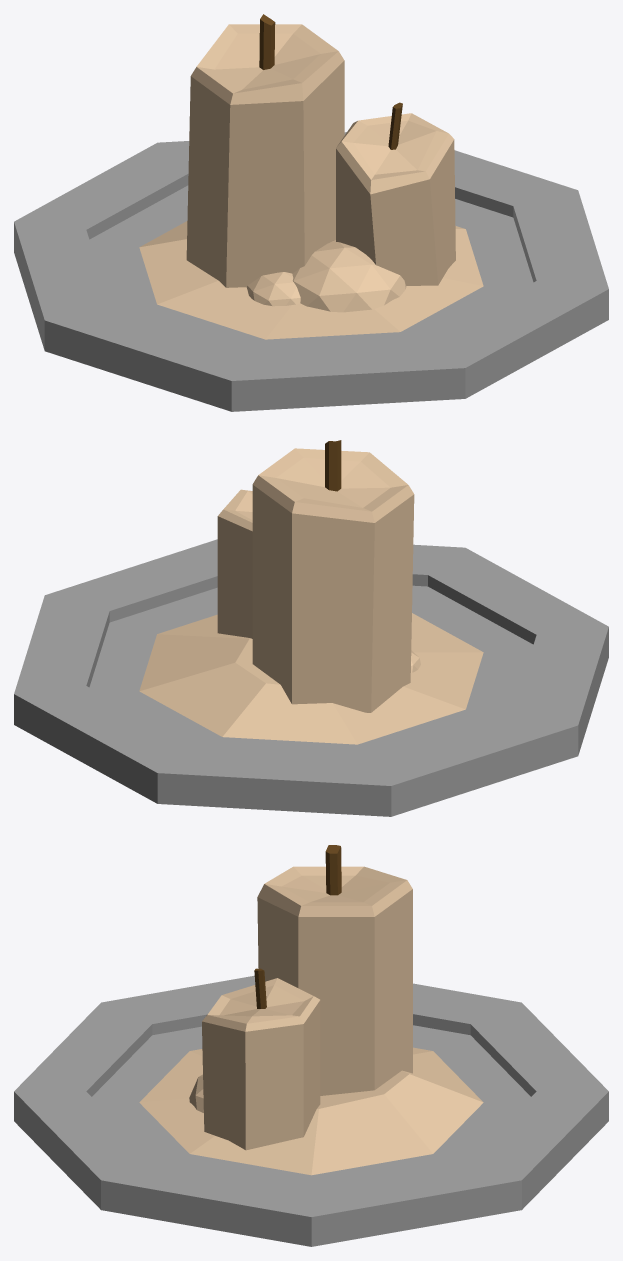
The model's file is Candle.fbx.
3 renders of one model, top to bottom at view 1: azimuth 30°, elevation 25°; view 2: azimuth 150°, elevation 25°; view 3: azimuth 270°, elevation 25°, orthographic. The views are drawn at different scales.
Visible parts, largest first — view 1: Candle; view 2: Candle; view 3: Candle.
Part boxes in pixels (x1,y1,x2,y2): Candle: (14,14,608,411); Candle: (14,440,608,816); Candle: (14,845,608,1246).
Size of the model in its own units: 91.11 by 43.89 by 91.11.
